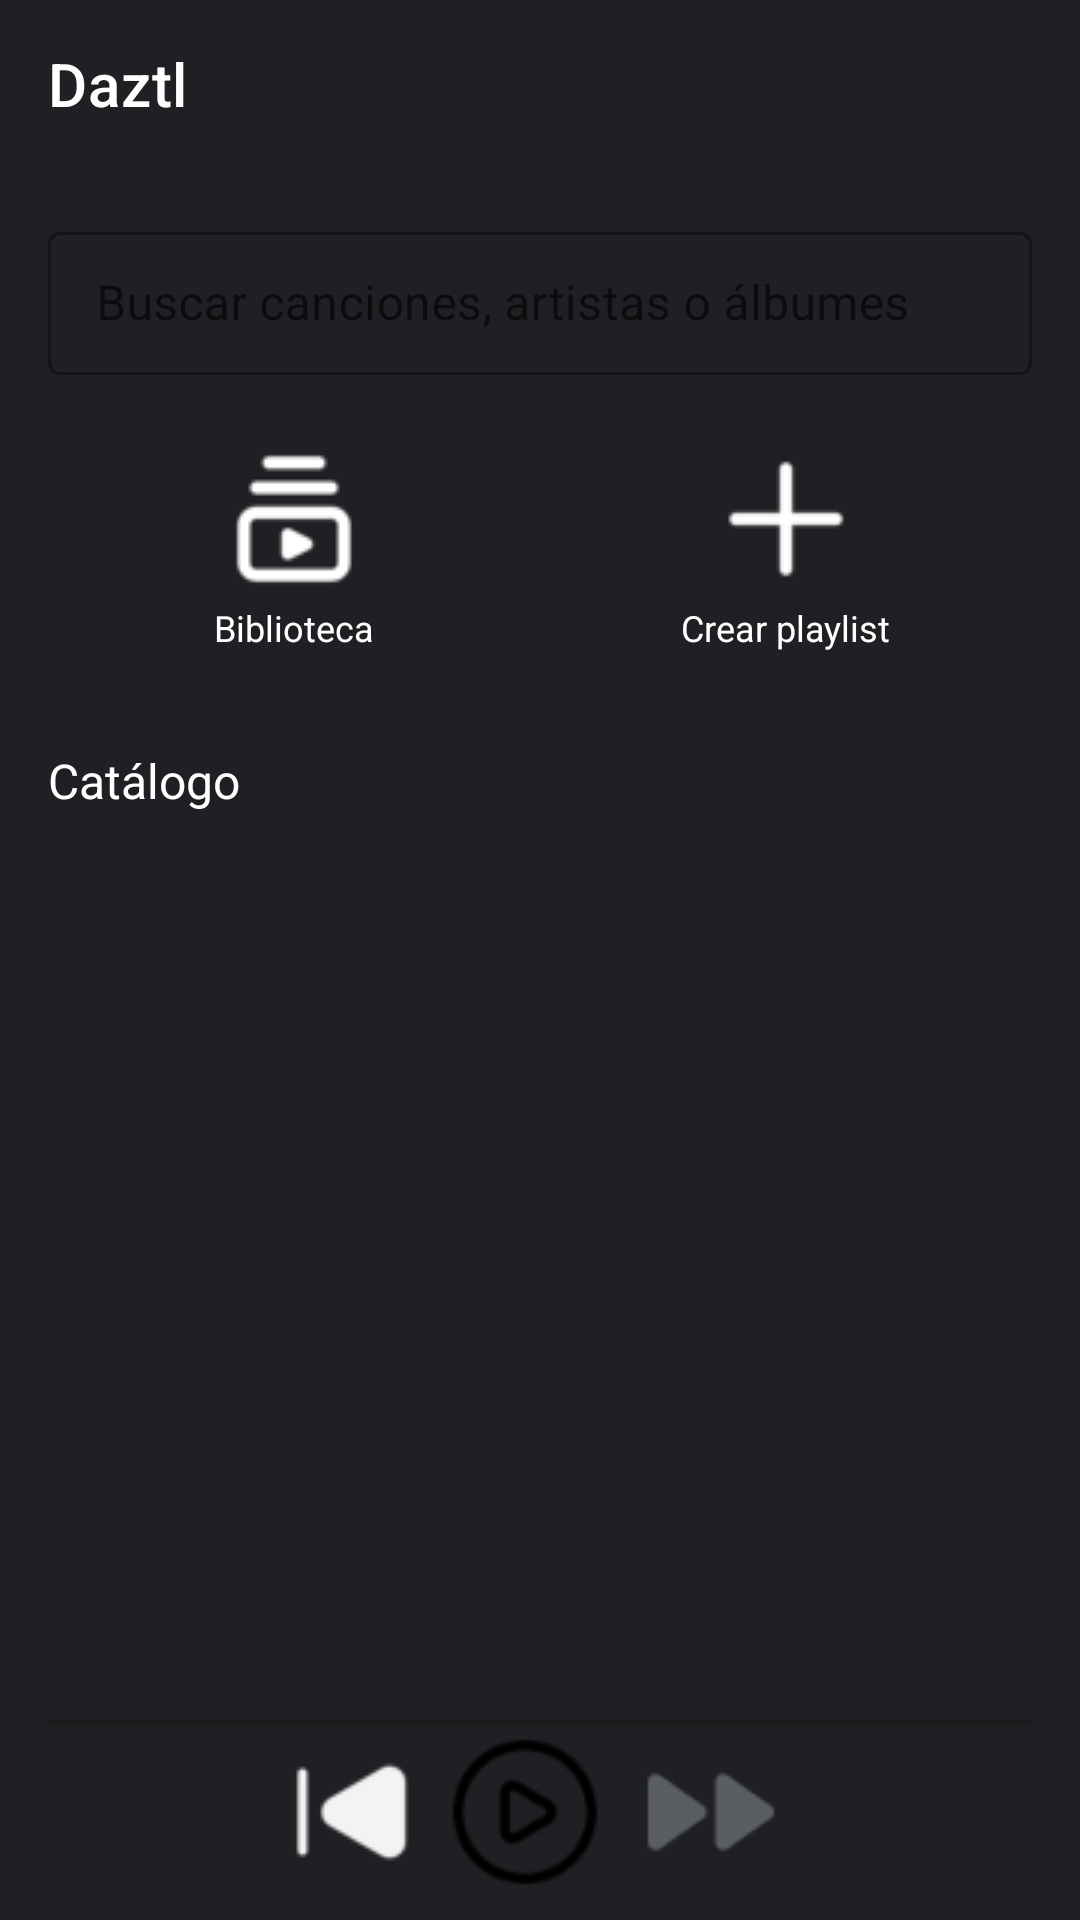

Icons on this 1080 x 1920 Android screen, each with its box as (x1, y1, x2, y2):
add: (728, 461, 844, 577)
play: (454, 1741, 596, 1883)
skip next: (648, 1773, 774, 1851)
skip previous: (296, 1764, 408, 1860)
